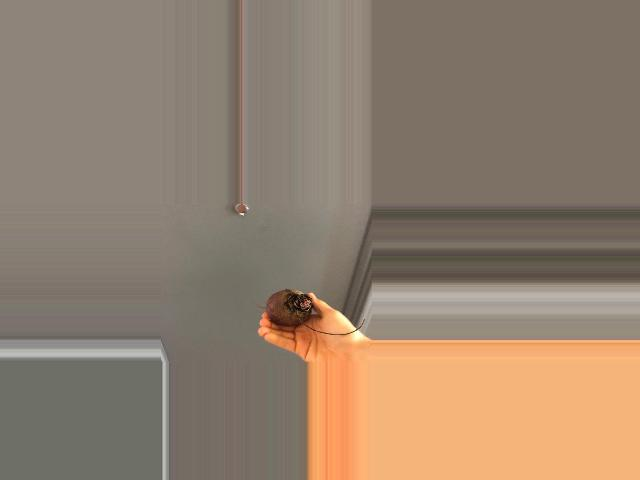beet: (254, 290, 364, 336)
